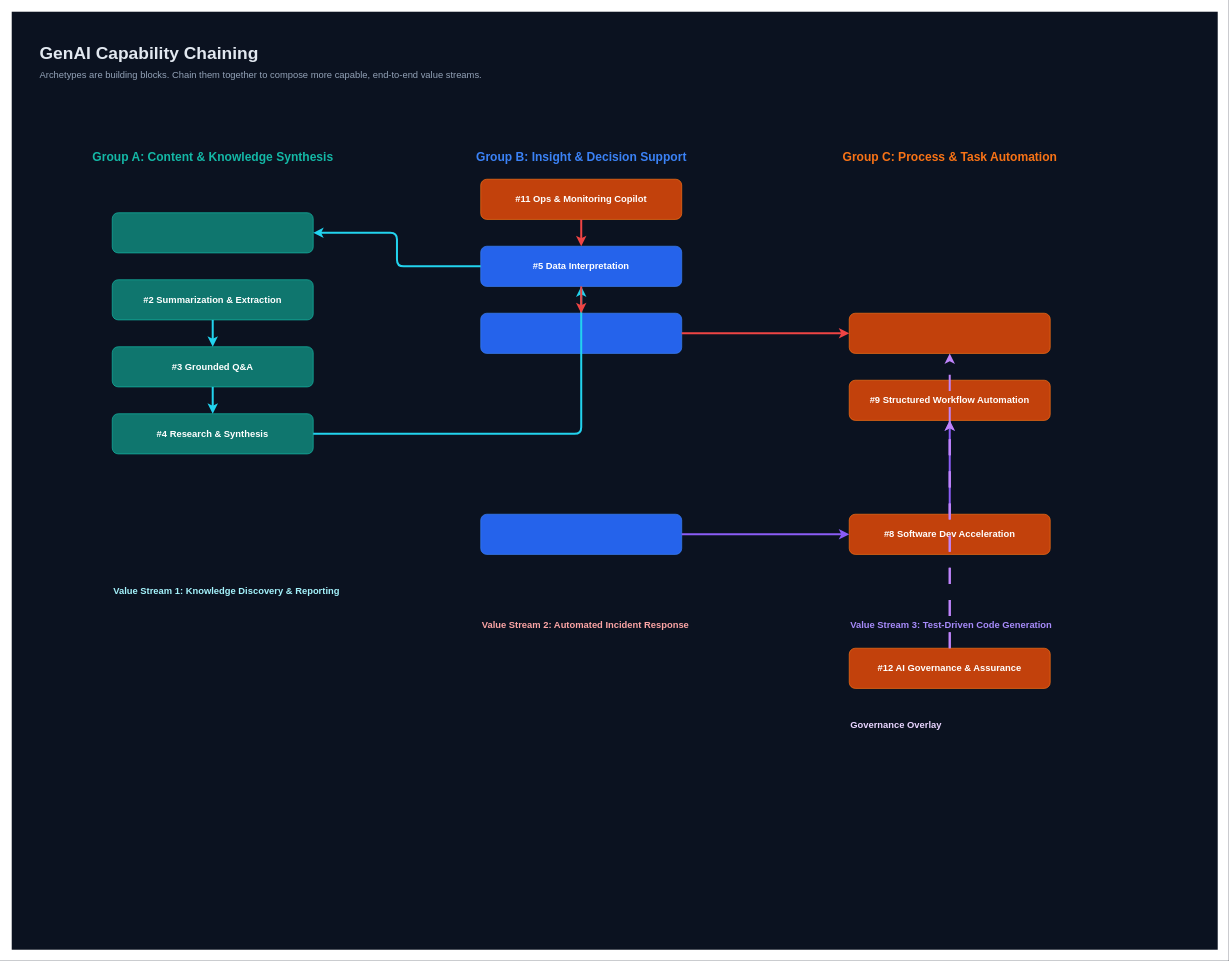
This 1229x961 diagram has some shape labels left out. Here are the shapes that lost their labels. From the top down, the box of each, then its label:
(112, 212, 313, 253): #1 Content Generation
(480, 313, 682, 353): #6 Recommendation
(849, 313, 1050, 353): #10 Agentic Task Automation
(480, 514, 682, 554): #7 Simulation / Synthetic Data
